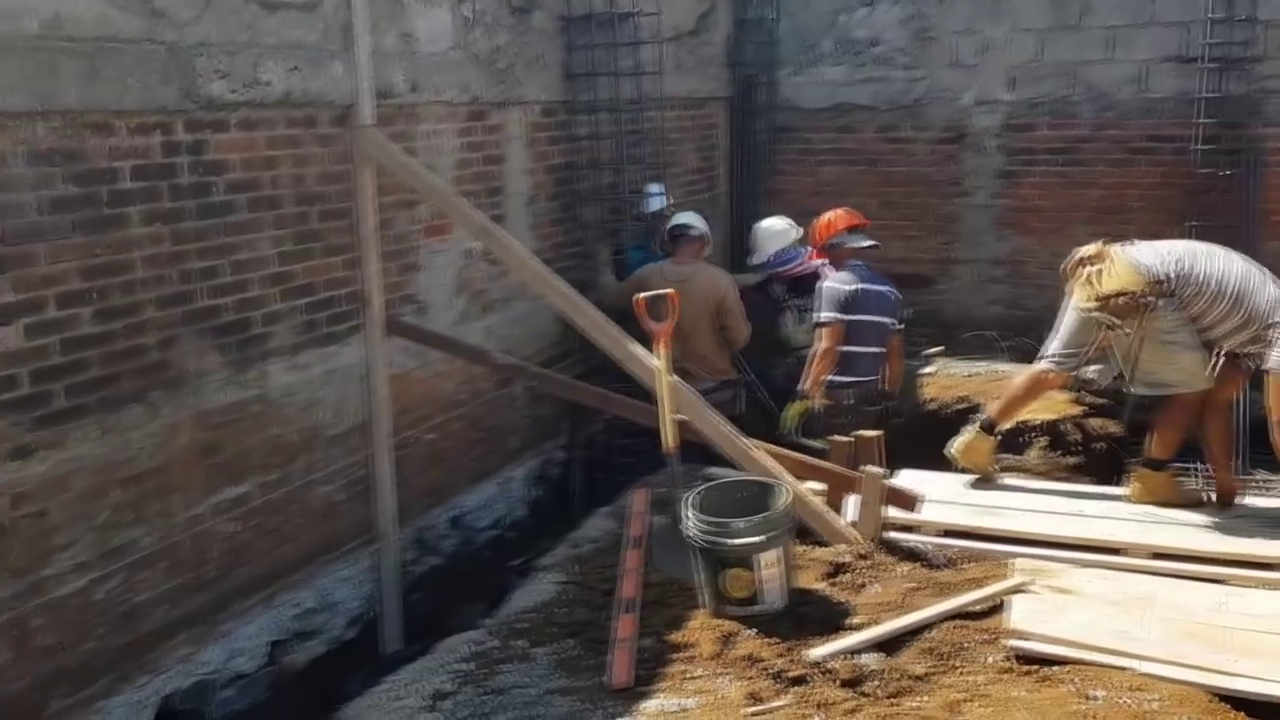helmet: (805, 206, 871, 260), (748, 214, 803, 265), (663, 210, 714, 256), (634, 181, 670, 216)
helmet-on: (805, 205, 879, 276), (748, 210, 806, 284), (661, 209, 714, 265)
person: (949, 227, 1271, 499), (593, 203, 745, 411), (794, 211, 901, 442), (748, 208, 831, 357)
